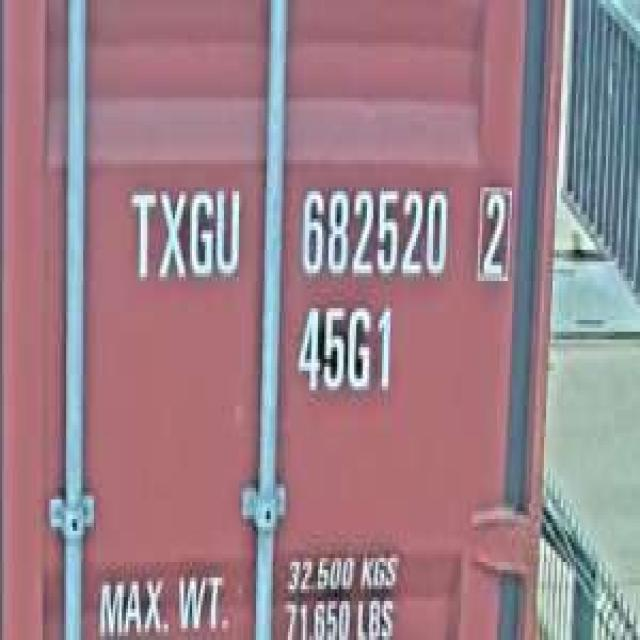dv: (472, 175, 516, 288)
owner: (122, 175, 245, 292)
serial: (292, 175, 452, 288)
size: (292, 297, 397, 402)
